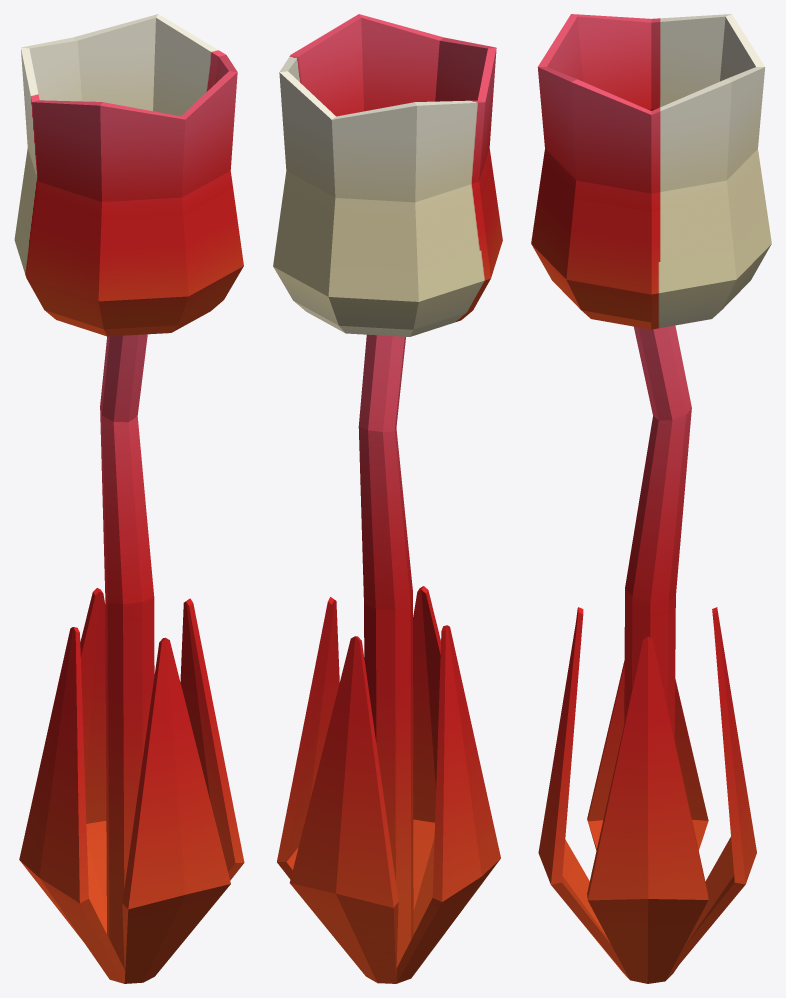
File: flower2.glb
The picture shows the model from 3 angles, left to right: view 1: azimuth 30°, elevation 25°; view 2: azimuth 150°, elevation 25°; view 3: azimuth 270°, elevation 25°; orthographic projection.
Visible parts, largest first — view 1: Flower_Cylinder; view 2: Flower_Cylinder; view 3: Flower_Cylinder.
Part boxes in pixels (x1,y1,x2,y2): Flower_Cylinder: (14, 14, 244, 983); Flower_Cylinder: (273, 14, 502, 983); Flower_Cylinder: (531, 14, 771, 983).
Bounding box in the file's own units: 0.3424 × 1.45 × 0.3424.
1 material, 1 textured.
